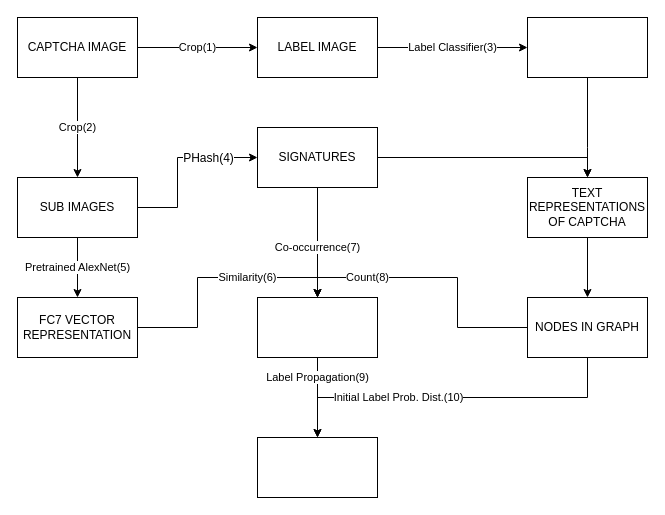
Some shapes in this 665 by 515 pixel diagram are drawn without their labels. Each missing label, with the centre of its shape:
EDGES IN GRAPH: the point at 317,327
FINAL LABEL PROBABILITY DISTRIBUTION: the point at 317,467
LABEL PROBABILITY DISTRIBUTION: the point at 587,47
